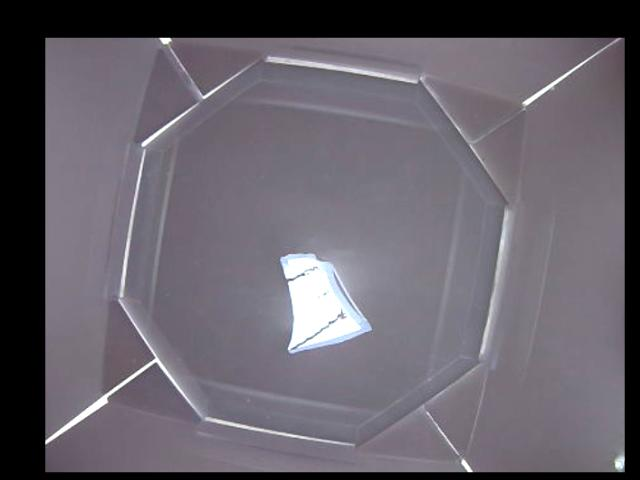China: (280, 251, 373, 350)
